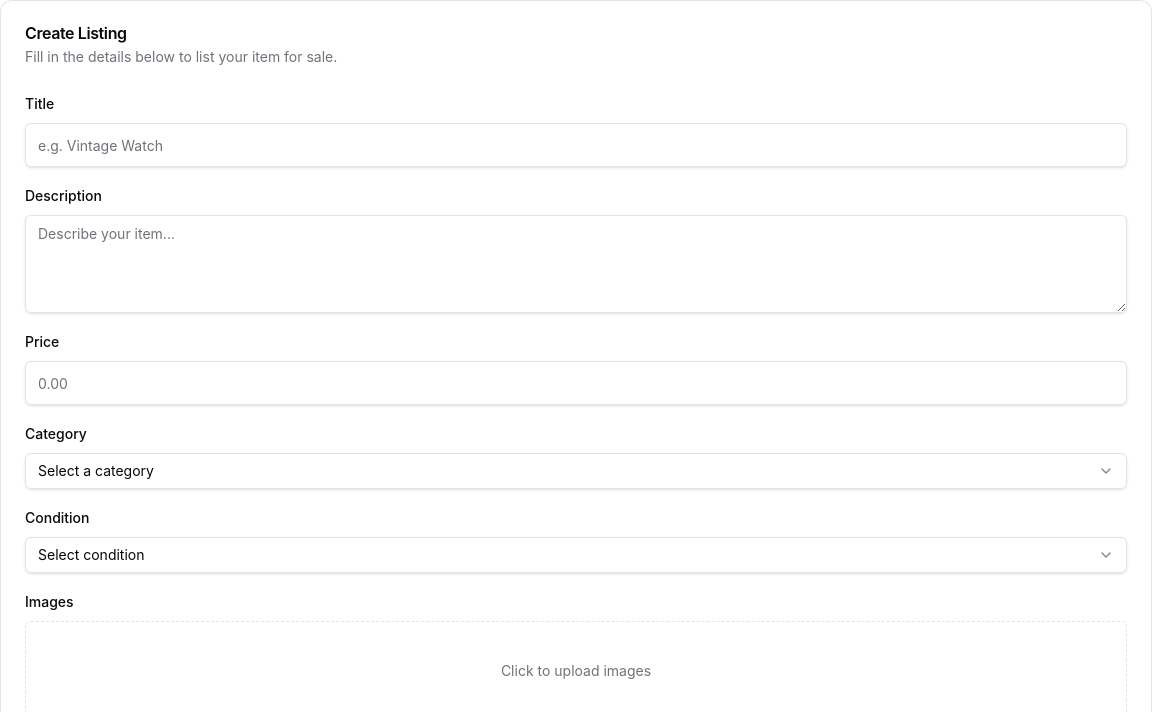
CreateListingForm › shows error for negative price
The image size is (1152, 712).
Type "-5" into the number field labelled "Price".
click(576, 383); type("-5")  # box top-left (25, 361), bottom-right (1127, 405)
(page scrolled)
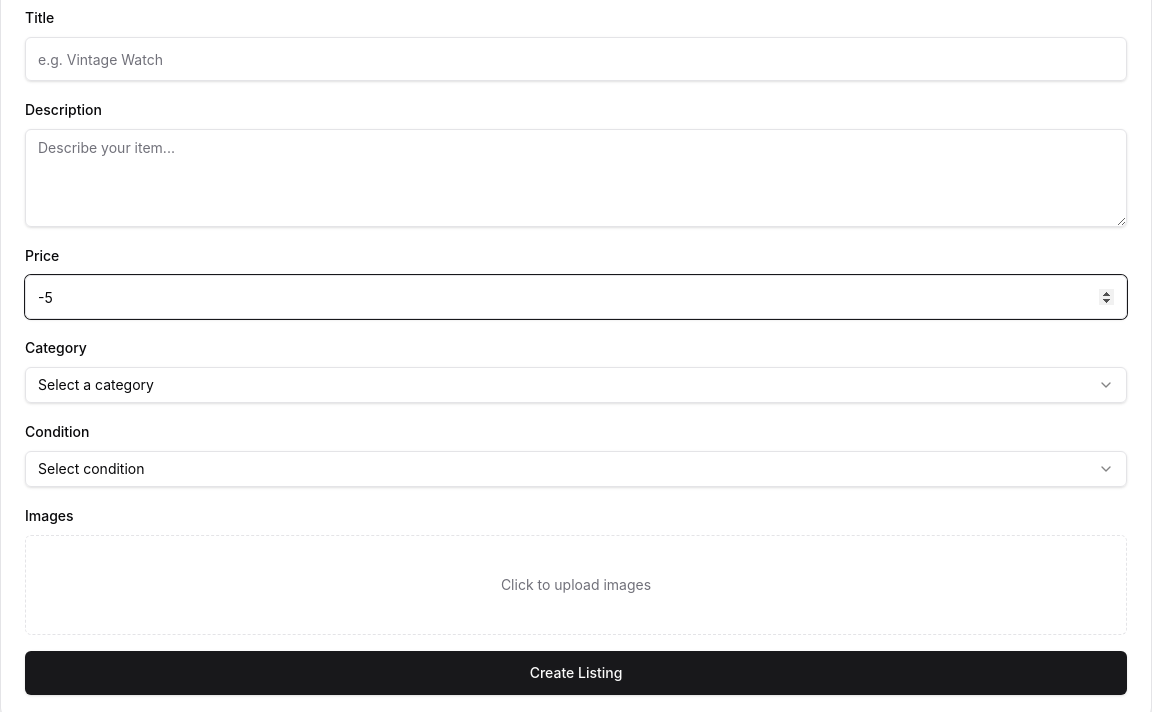
Click the button "Create Listing".
click(576, 673)  # box top-left (25, 651), bottom-right (1127, 695)
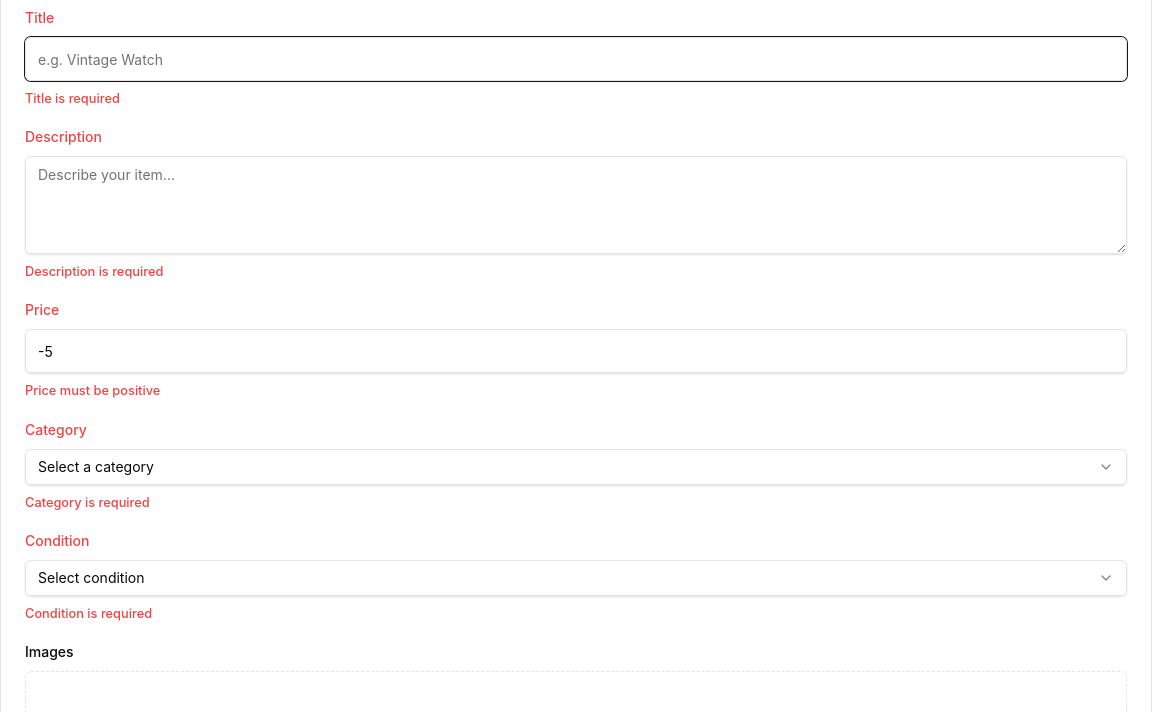
expect the text "Price must be positive" is shown: met, box top-left (25, 383), bottom-right (160, 398)
